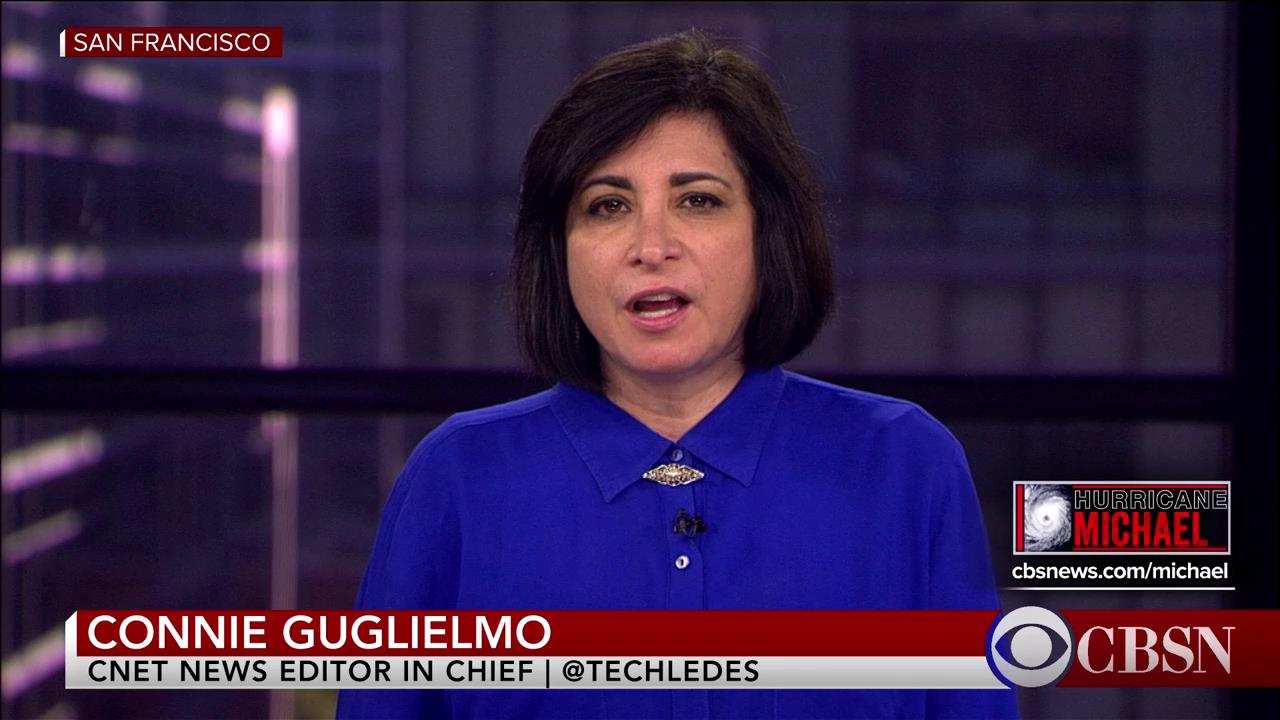CBSN: (1076, 621, 1238, 676)
CNET NEWS EDITOR IN CHIEF | @TECHLEDES: (84, 656, 762, 683)
CONNIE GUGLIELMO: (86, 610, 554, 651)
HURRICANE: (1074, 485, 1227, 509)
MICHAEL: (1070, 509, 1211, 548)
SAN FRANCISCO: (71, 27, 272, 52)
cbsnews.com/michael: (1008, 559, 1231, 582)
